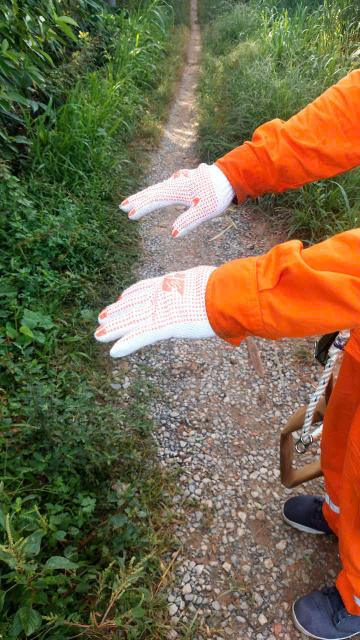gloves: (22, 267, 238, 361), (75, 155, 231, 246)
shoes: (259, 537, 360, 640), (262, 476, 340, 540)
